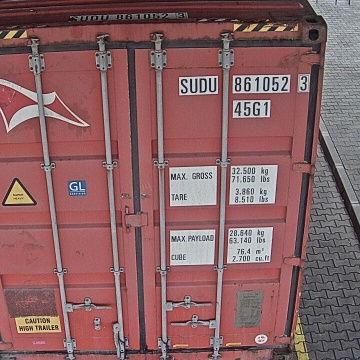serial_id: (180, 76, 307, 94)
